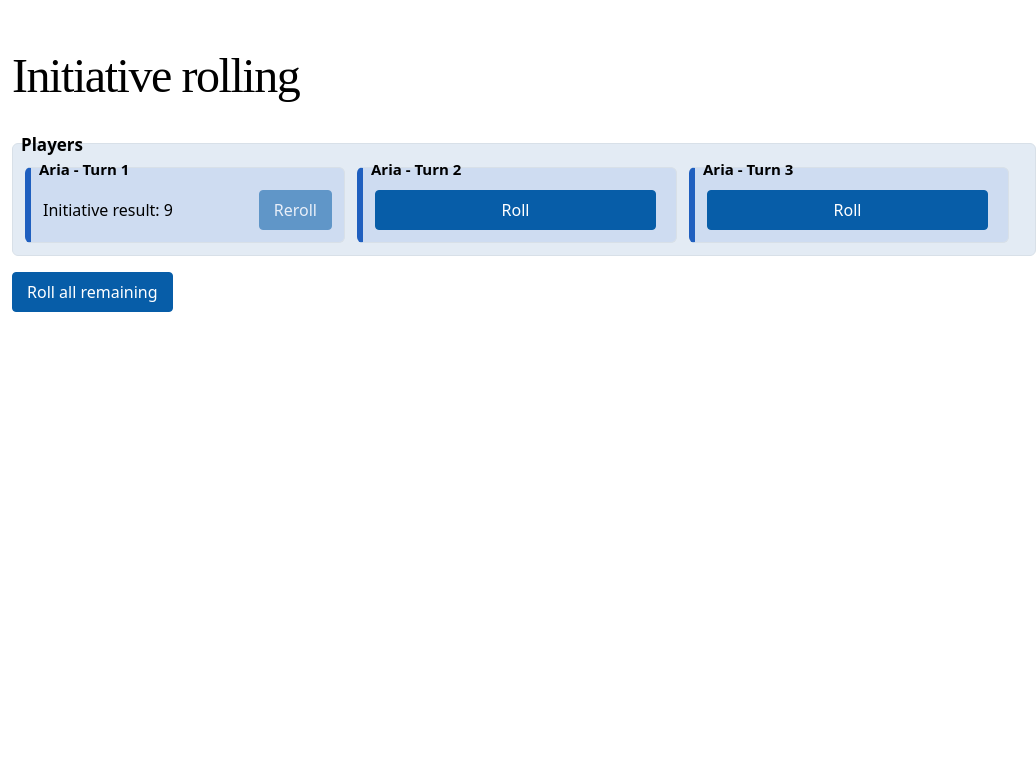
Test: spawn editing › locks an app result once rolled and Roll all remaining fills only missing results
The image size is (1036, 768).
Click the button with aria-label "Roll initiative for Aria - Turn 2": (516, 210) x1=375 y1=190 x2=656 y2=230
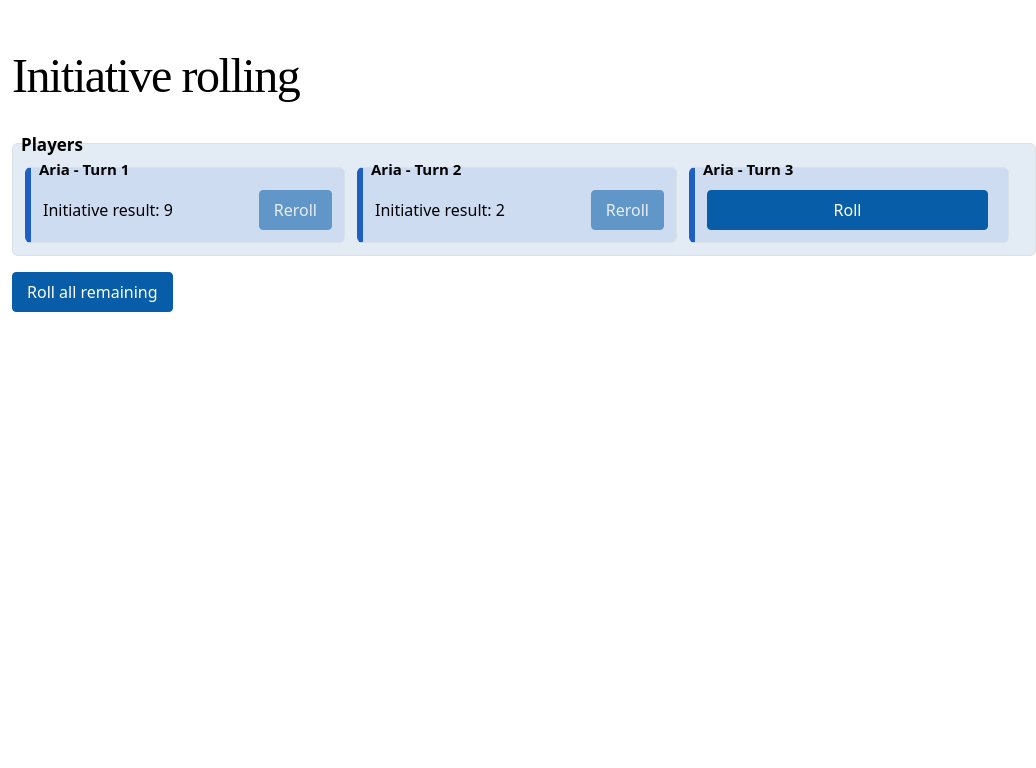
Click the button "Roll all remaining": (92, 292) x1=12 y1=272 x2=173 y2=312
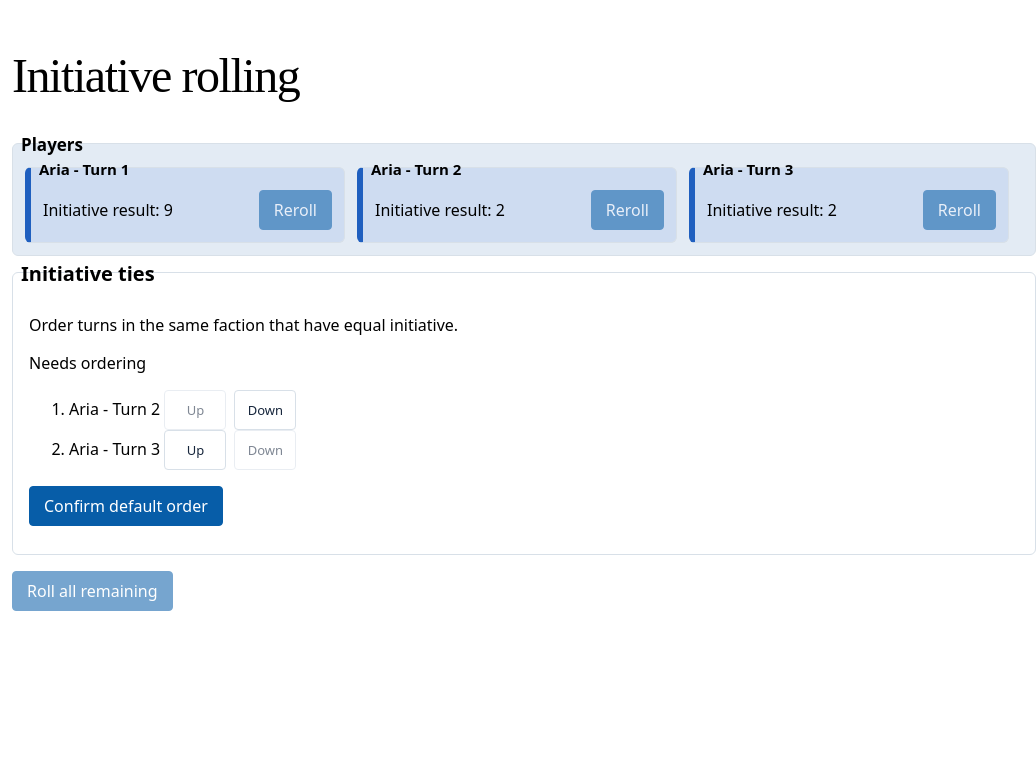
Expected: the button "Roll all remaining" is disabled, x1=12 y1=571 x2=173 y2=611
